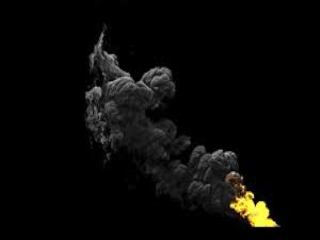smoke: (81, 41, 252, 222)
